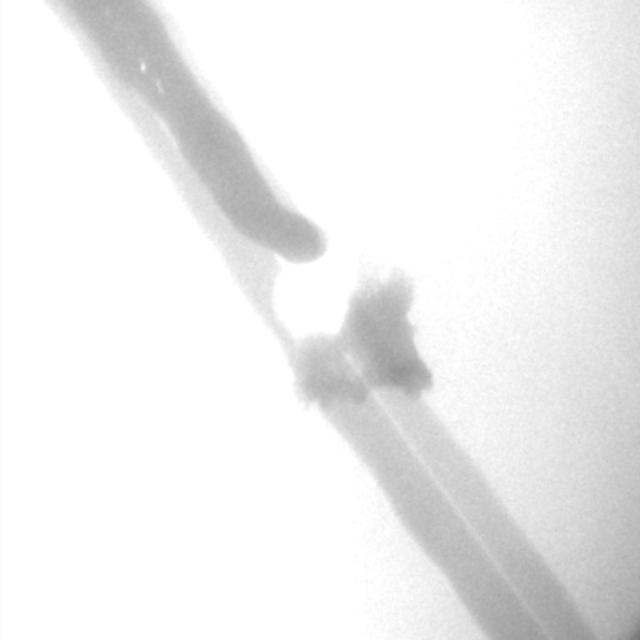air hole: (139, 63, 147, 72)
broken arc: (147, 107, 551, 633)
